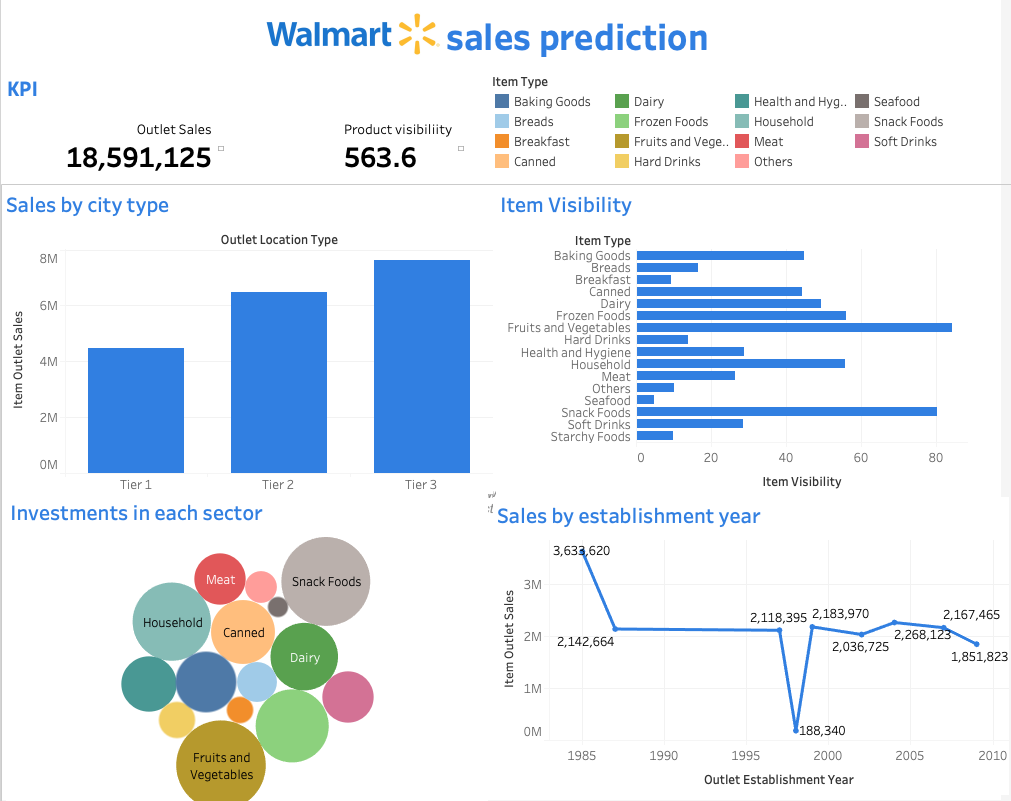

This screenshot's page, from the dashboard's own definition file:
{"tool":"tableau","page":{"name":"Walmart sales prediction","canvas":[1000,800],"ordinal":0},"visuals":[{"type":"image","param":"/Users/nitinkumar/Downloads/walmart-logo-20.jpeg","box":[239,7,222,54]},{"type":"title","box":[8,8,984,56]},{"type":"legend","title":"Sheet 3","param":"[federated.0ox587a0vq9wwh12ry38i06m2bch].[none:Item_Type:nk]","box":[487,69,514,117]},{"type":"worksheet","title":"KPI","mark":"Shape","cols":["Calculation_2151876256502489092","Calculation_2151876256502489092"],"box":[2,70,480,113]},{"type":"worksheet","title":"Sheet 2","mark":"Automatic","rows":["Item_Outlet_Sales"],"cols":["Outlet_Location_Type"],"box":[1,186,491,308]},{"type":"worksheet","title":"Sheet 1","mark":"Automatic","rows":["Item_Type"],"cols":["Item_Visibility"],"box":[495,186,472,311]}]}

Visuals, with their boxes in screenshot pixels (x1, y1, x2, y2), scaled from the page's 1000x800 canvas onto the 1011x801 screenshot:
image: box=[242, 7, 466, 61]
title: box=[8, 8, 1003, 64]
"Sheet 3" legend: box=[492, 69, 1010, 186]
"KPI" worksheet (Shape marks): box=[2, 70, 487, 183]
"Sheet 2" worksheet: box=[1, 186, 497, 495]
"Sheet 1" worksheet: box=[500, 186, 978, 498]
